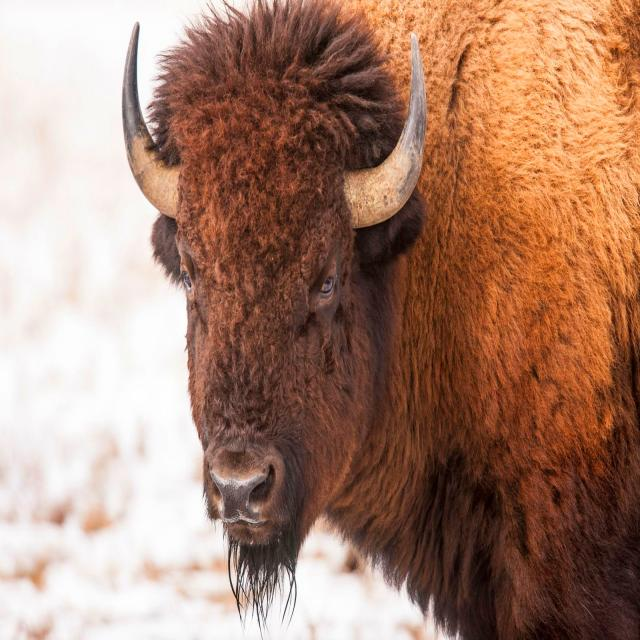bison: (125, 0, 640, 639)
